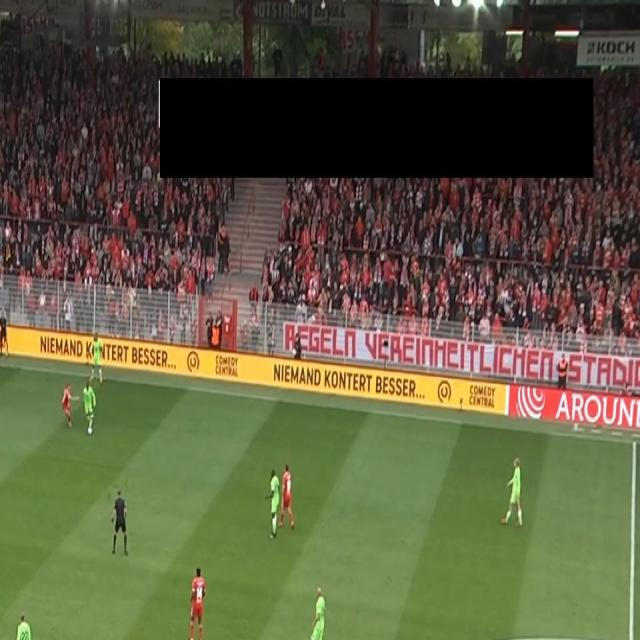ball: (86, 425, 94, 437)
